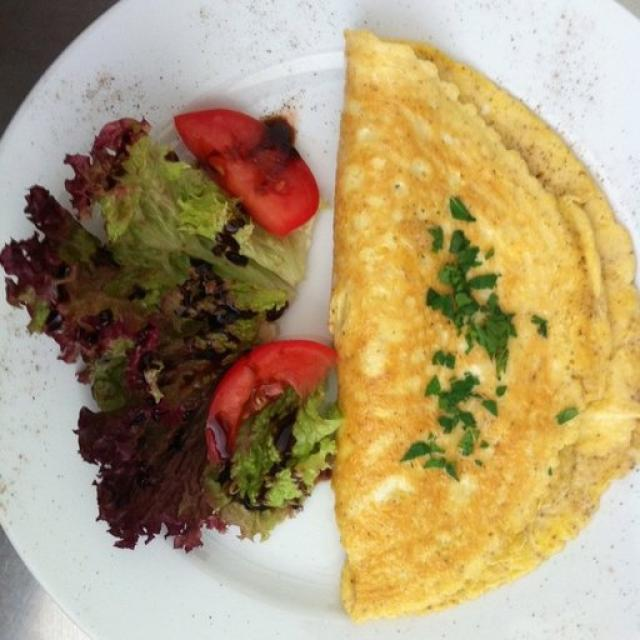telur_ayam_dadar: (320, 35, 633, 631)
